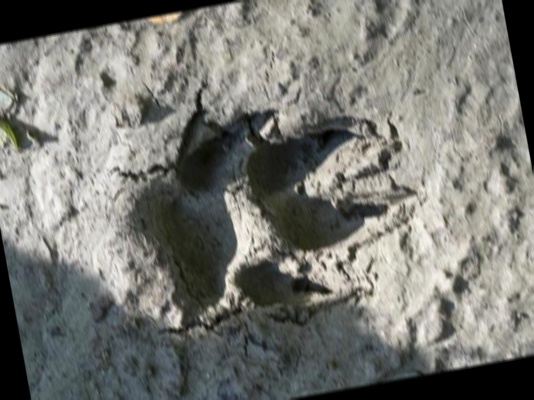coyote: (72, 57, 449, 370)
